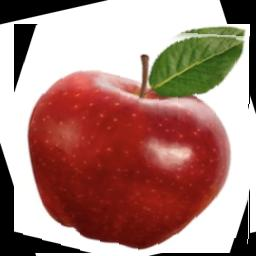Apple Fresh: (15, 25, 251, 254)
